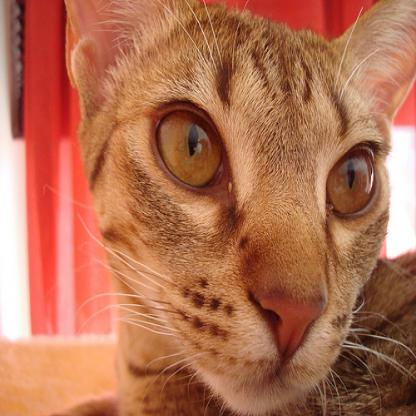cat: (59, 0, 415, 415)
